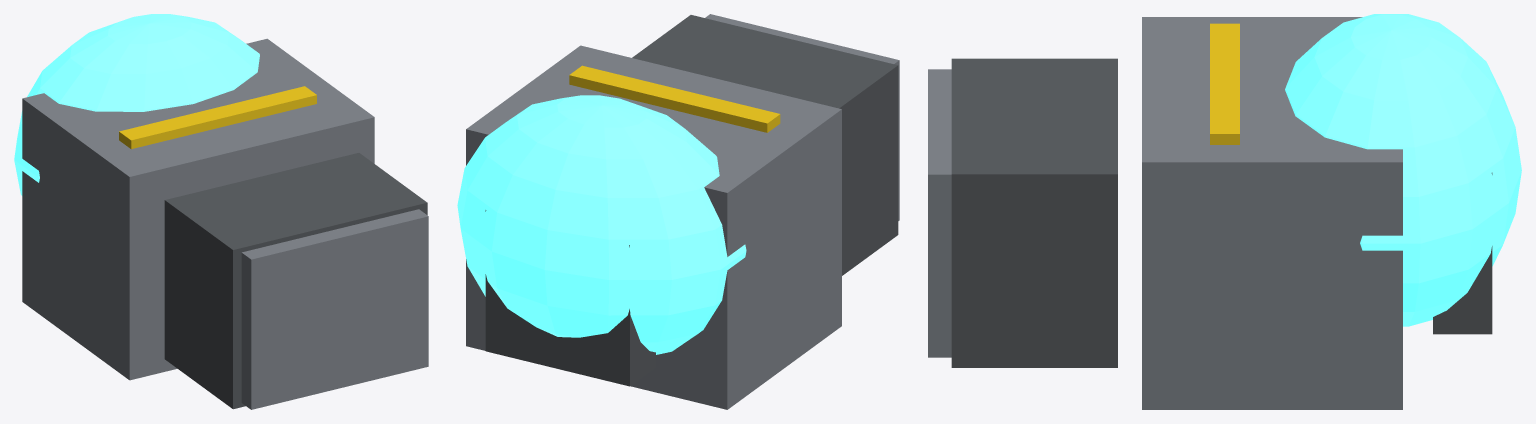
The model's file is torso-warden.glb.
3 views of the same model, side by side, from view 1: azimuth 30°, elevation 25°; view 2: azimuth 150°, elevation 25°; view 3: azimuth 270°, elevation 25° (orthographic). The views are drawn at different scales.
Visible parts, largest first — view 1: chest, pelvis, waist, canopy, trim; view 2: canopy, chest, waist, collar, trim, pelvis; view 3: chest, waist, canopy, pelvis, trim, collar.
Boxes of the visible parts, x1,y1,x2,y2 form: chest: (22, 38, 374, 380); pelvis: (241, 209, 428, 409); waist: (164, 153, 427, 409); canopy: (14, 14, 259, 195); trim: (119, 86, 316, 149); canopy: (457, 95, 746, 354); chest: (466, 45, 841, 409); waist: (632, 15, 898, 275); collar: (485, 210, 655, 386); trim: (569, 65, 780, 132); pelvis: (705, 14, 899, 220); chest: (1142, 17, 1402, 409); waist: (951, 58, 1117, 367); canopy: (1285, 14, 1521, 326); pelvis: (928, 69, 951, 357); trim: (1210, 23, 1239, 144); collar: (1433, 172, 1492, 334).
Size of the model in its own units: 0.585 by 0.57 by 1.
